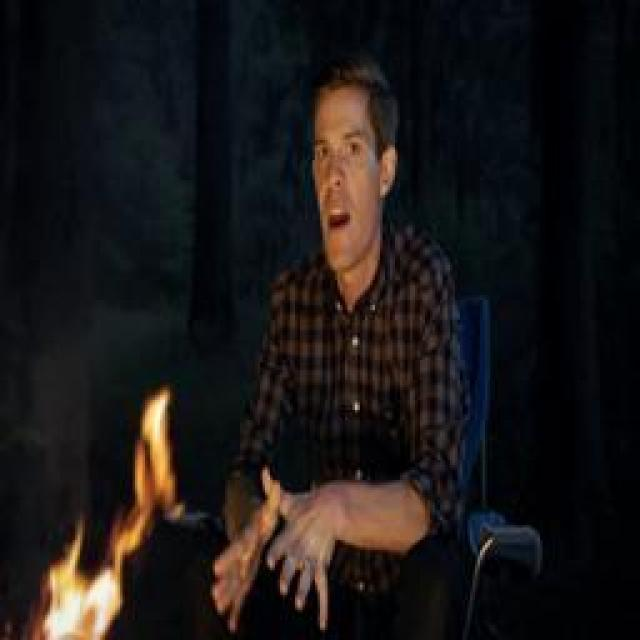Fire: (31, 385, 184, 640)
